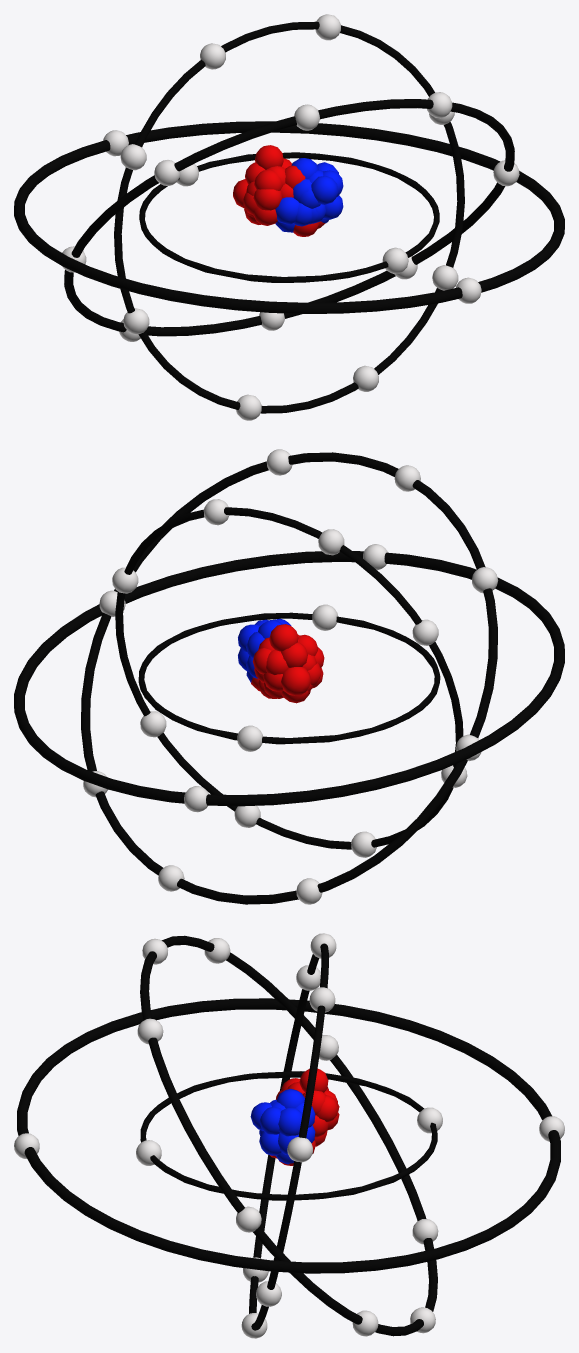
File: 27 Cobalto.fbx
The picture shows the model from 3 angles, top to bottom: view 1: azimuth 30°, elevation 25°; view 2: azimuth 150°, elevation 25°; view 3: azimuth 270°, elevation 25°; orthographic projection.
Parts seen in each view (by area): view 1: Orbita.004, Orbita.003, Orbita.002, Orbita.001, Neutron.001, Sphere.029, Neutron.004, Neutron.005, Sphere.026, Electron.004, Electron.005, Electron.003 (+8 smaller); view 2: Orbita.004, Orbita.003, Orbita.002, Orbita.001, Neutron.005, Sphere.026, Neutron.006; view 3: Orbita.004, Orbita.003, Orbita.002, Orbita.001, Neutron.006, Electron.007, Electron.013, Electron.
Part boxes in pixels (x1=…): Orbita.004: x1=14, y1=121, x2=564, y2=313; Orbita.003: x1=64, y1=99, x2=514, y2=336; Orbita.002: x1=114, y1=21, x2=464, y2=413; Orbita.001: x1=139, y1=152, x2=439, y2=282; Neutron.001: x1=275, y1=197, x2=298, y2=232; Sphere.029: x1=311, y1=176, x2=338, y2=204; Neutron.004: x1=291, y1=158, x2=318, y2=200; Neutron.005: x1=233, y1=179, x2=260, y2=224; Sphere.026: x1=255, y1=145, x2=283, y2=169; Electron.004: x1=120, y1=144, x2=146, y2=170; Electron.005: x1=294, y1=104, x2=319, y2=130; Electron.003: x1=200, y1=43, x2=225, y2=69; Orbita.004: x1=14, y1=551, x2=564, y2=806; Orbita.003: x1=81, y1=452, x2=497, y2=904; Orbita.002: x1=115, y1=507, x2=463, y2=849; Orbita.001: x1=138, y1=612, x2=440, y2=744; Neutron.005: x1=281, y1=663, x2=321, y2=703; Sphere.026: x1=269, y1=624, x2=298, y2=651; Neutron.006: x1=238, y1=624, x2=264, y2=658; Orbita.004: x1=17, y1=998, x2=560, y2=1273; Orbita.003: x1=140, y1=935, x2=437, y2=1336; Orbita.002: x1=249, y1=943, x2=328, y2=1330; Orbita.001: x1=140, y1=1071, x2=437, y2=1200; Neutron.006: x1=271, y1=1101, x2=315, y2=1136; Electron.007: x1=287, y1=1137, x2=312, y2=1162; Electron.013: x1=236, y1=1206, x2=261, y2=1232; Electron: x1=417, y1=1107, x2=442, y2=1133.
Bounding box in the file's own units: 14.33 × 14.15 × 10.11.
